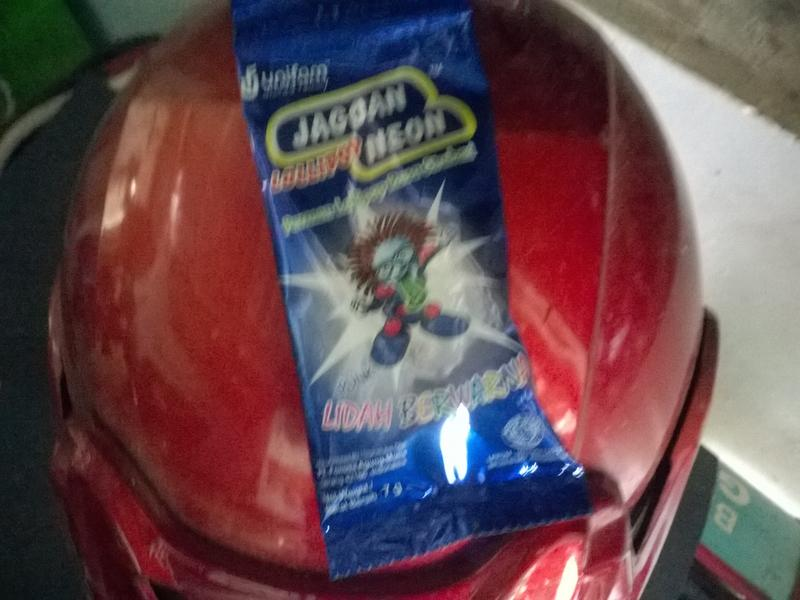jagoan neon: (232, 1, 592, 579)
